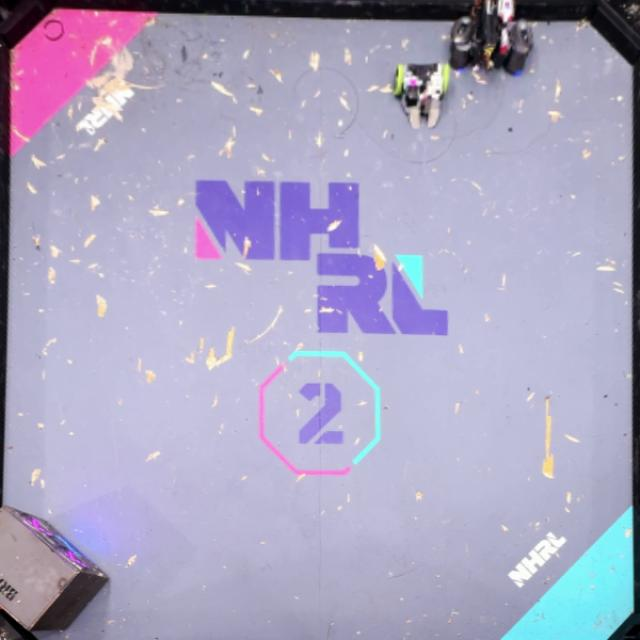housebot: (1, 504, 111, 634)
robot: (446, 0, 530, 76), (393, 61, 450, 129)
